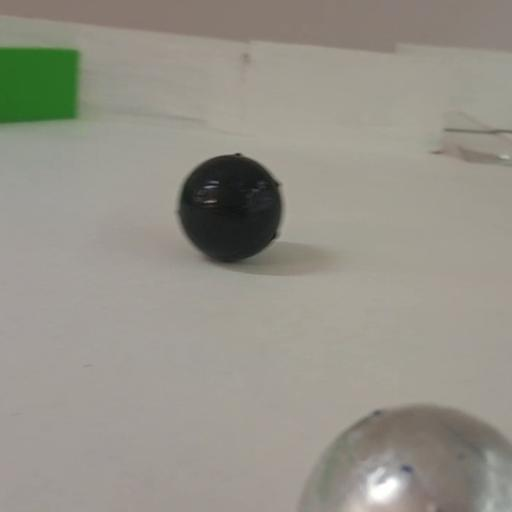alive: (294, 404, 512, 512)
dead: (174, 150, 287, 263)
